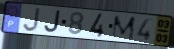4: (88, 12, 105, 39), (136, 17, 153, 42)
8: (67, 11, 85, 36)
J: (22, 7, 41, 33), (43, 9, 62, 34)
M: (110, 15, 137, 41)
